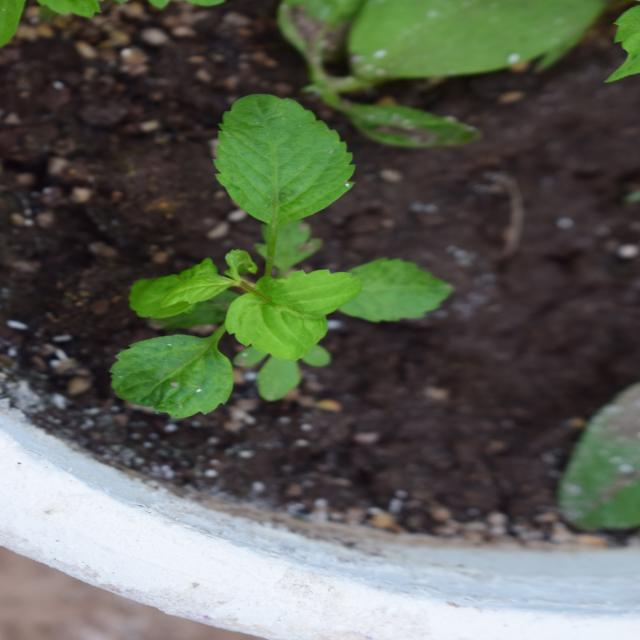Bidens pilosa: (109, 237, 418, 528)
